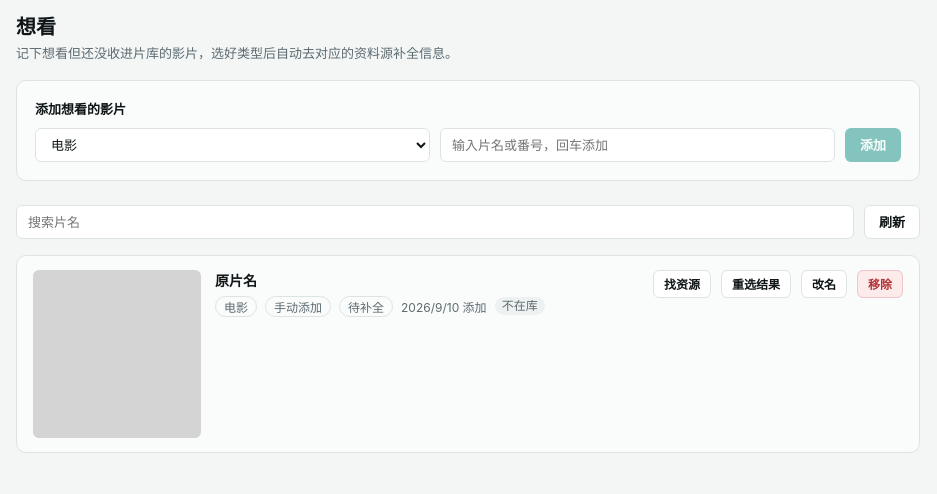
Test: 想看片单 › 保存期间不重复提交，失败保留草稿与已有记录
Type "新片名" into the field labelled "添加想看的影片" at (638, 144), box [440, 128, 835, 162]
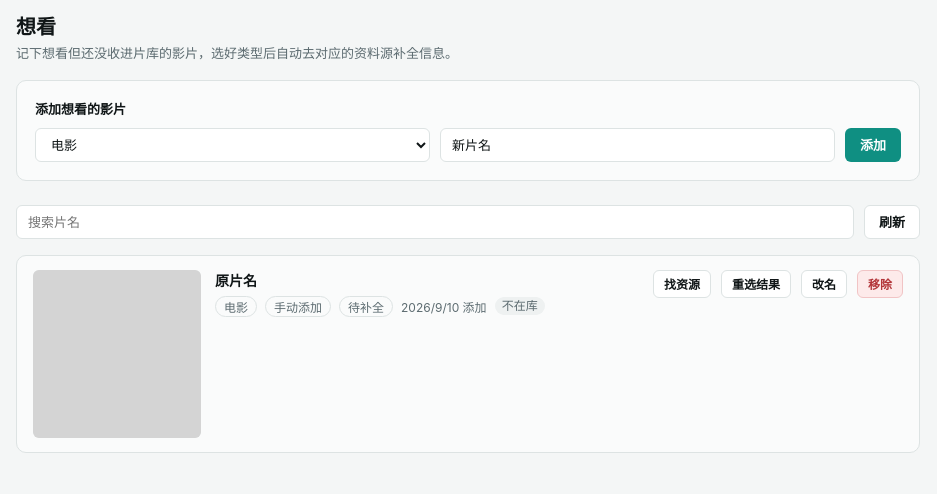
Submit the form with test id "watchlist-form", box [16, 80, 920, 180]
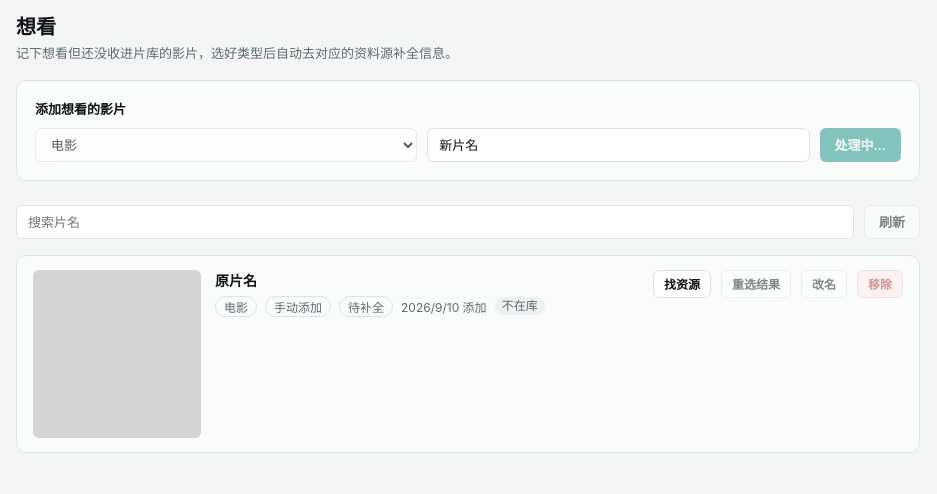
Submit the form with test id "watchlist-form", box [16, 80, 920, 180]
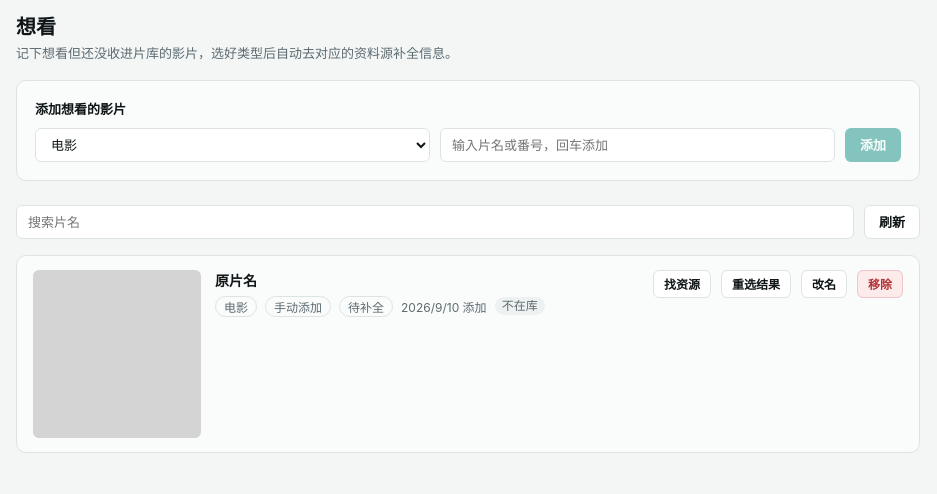
Type "保留草稿" into the field labelled "添加想看的影片" at (638, 144), box [440, 128, 835, 162]
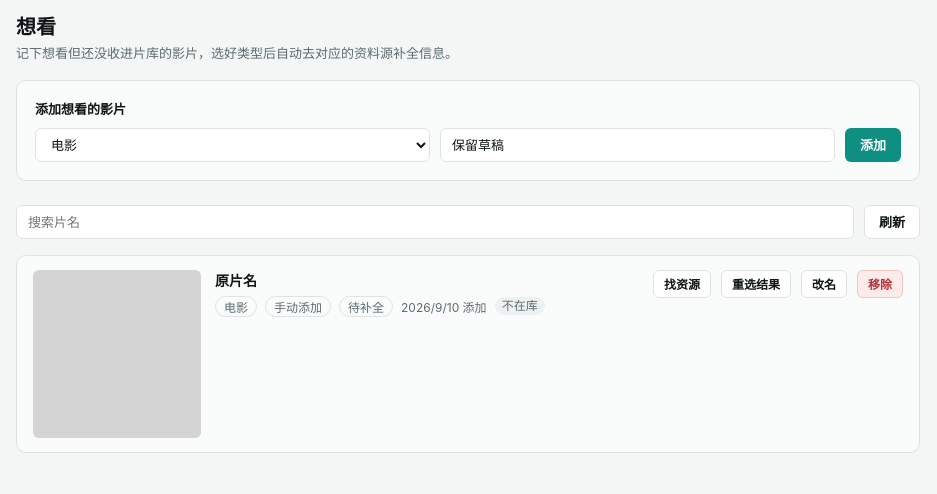
Submit the form with test id "watchlist-form", box [16, 80, 920, 180]
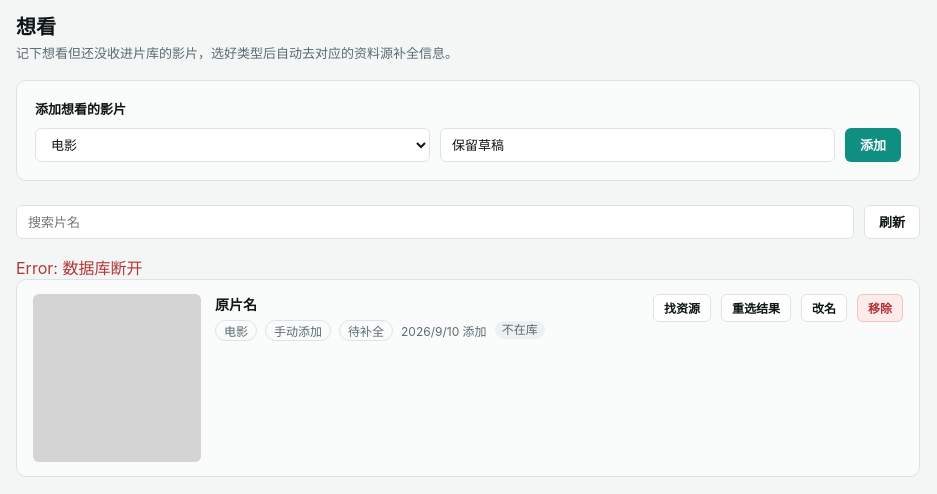
Expected: the list item with test id "watchlist-entry" shows "原片名", [215, 296, 257, 312]
Expected: the message with test id "watchlist-error" shows "数据库断开", [16, 258, 142, 278]
